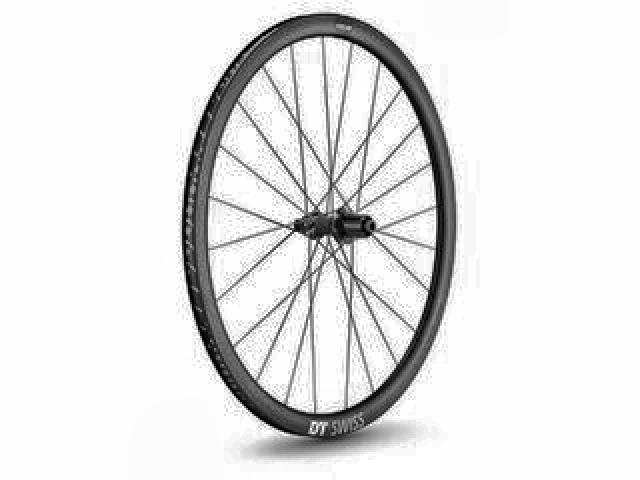wheel: (178, 11, 461, 448)
